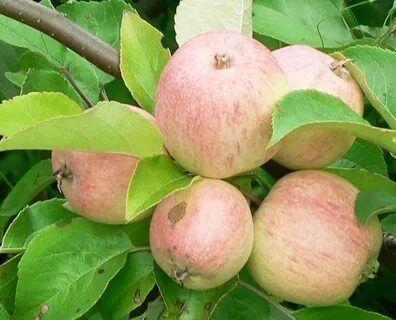Apple: (154, 32, 288, 180), (252, 172, 382, 308), (149, 180, 256, 290), (272, 44, 364, 170)
